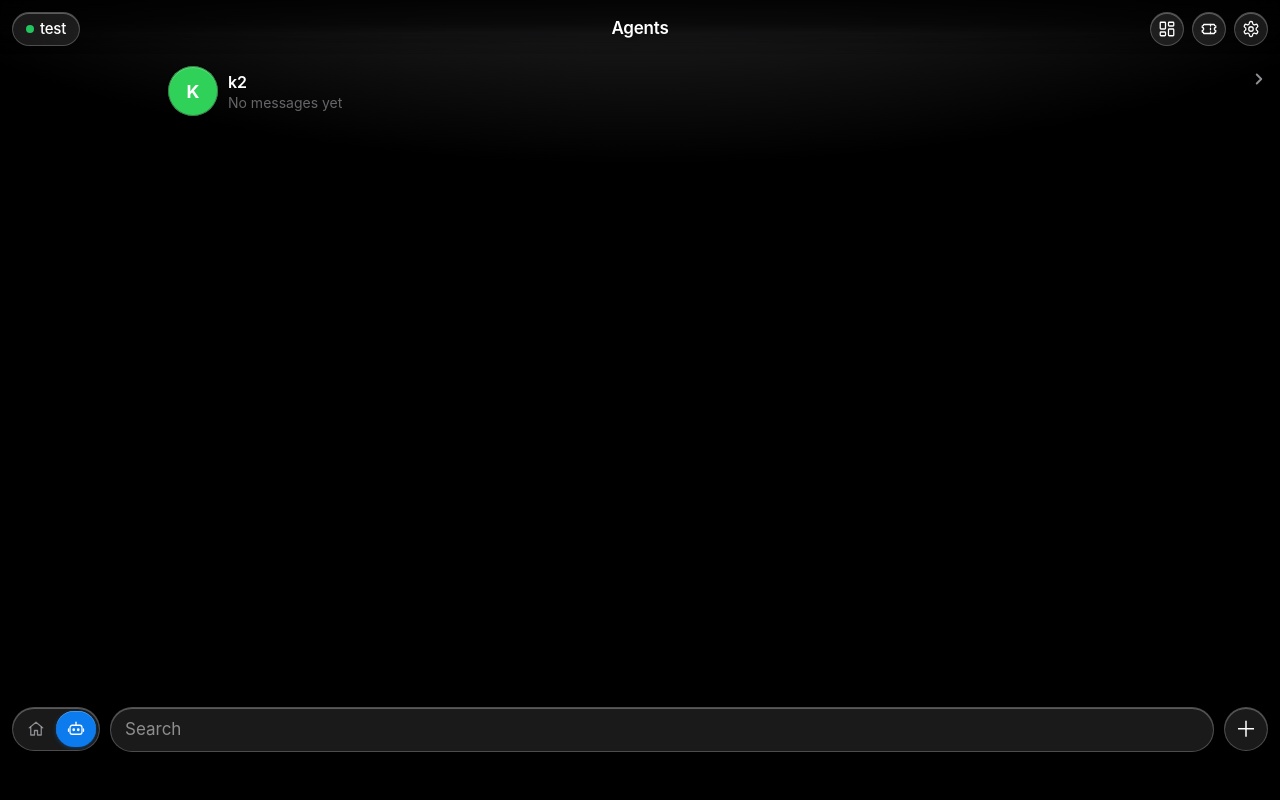
it: Zen Projects › empty state
Click the button named "Projects" at point(1167, 29), box [1150,12,1184,46]
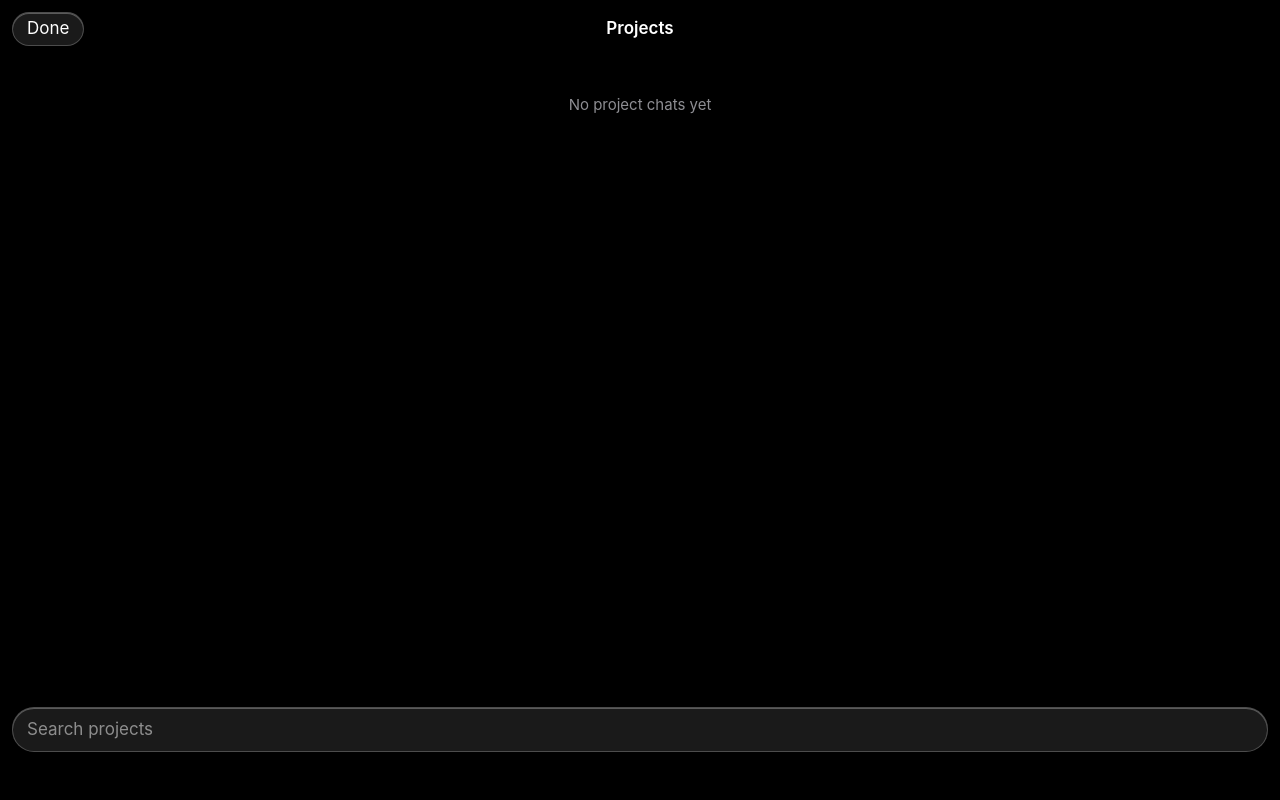
Result: the text with test id "projects-empty" reads "No project chats yet" at [569,95,711,114]
